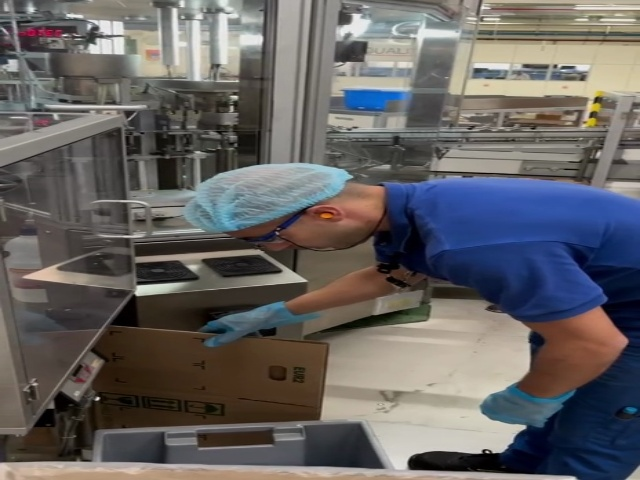Earplug: (311, 206, 348, 227)
Hairnet: (193, 162, 347, 221)
No_Helmet: (194, 164, 341, 219)
No_Vest: (389, 183, 640, 319)
Person: (203, 162, 640, 468)
Safety_Goggles: (232, 206, 301, 250)
